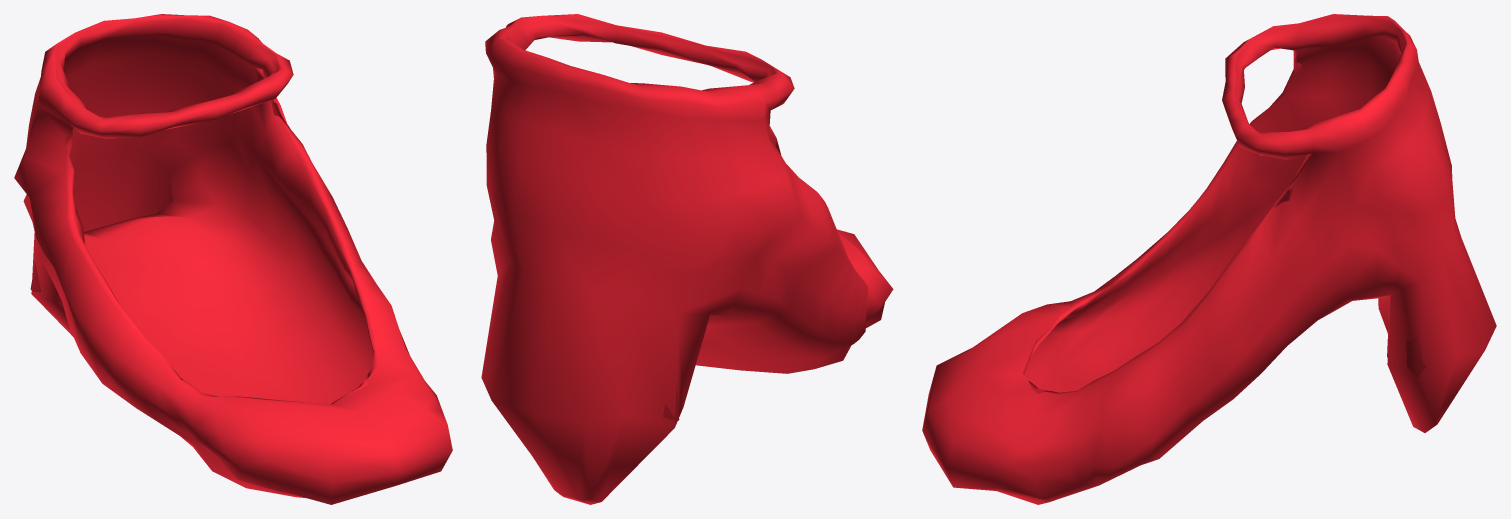
Rendered from calzado_tacones.glb.
3 views of the same model, side by side, from view 1: azimuth 30°, elevation 25°; view 2: azimuth 150°, elevation 25°; view 3: azimuth 270°, elevation 25° (orthographic). The views are drawn at different scales.
Parts seen in each view (by area): view 1: pieza; view 2: pieza; view 3: pieza.
Boxes of the visible parts, x1,y1,x2,y2 form: pieza: [14, 14, 452, 504]; pieza: [481, 14, 893, 504]; pieza: [922, 14, 1496, 504].
Size of the model in its own units: 0.3 by 0.34 by 0.44.
